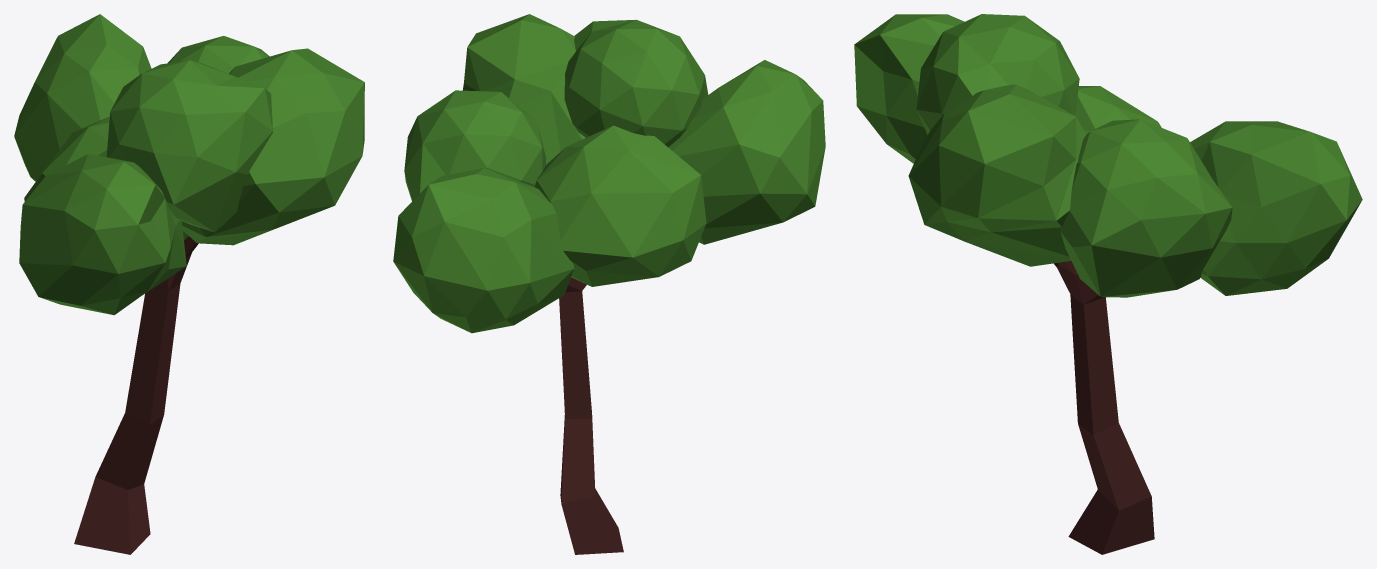
Rendered from TreeV3.fbx.
3 views of the same model, side by side, from view 1: azimuth 30°, elevation 25°; view 2: azimuth 150°, elevation 25°; view 3: azimuth 270°, elevation 25° (orthographic). The views are drawn at different scales.
Visible parts, largest first — view 1: Icosphere.002, Icosphere.005, Icosphere.001, Cube, Icosphere, Icosphere.004, Icosphere.003; view 2: Icosphere, Icosphere.003, Icosphere.002, Icosphere.005, Icosphere.004, Icosphere.001, Cube; view 3: Icosphere.001, Icosphere.004, Icosphere, Cube, Icosphere.005, Icosphere.002, Icosphere.003.
Boxes of the visible parts, x1,y1,x2,y2 form: Icosphere.002: (19,154,186,315); Icosphere.005: (106,60,272,232); Icosphere.001: (181,48,364,245); Cube: (74,252,192,554); Icosphere: (14,14,151,181); Icosphere.004: (168,36,269,73); Icosphere.003: (24,117,188,240); Icosphere: (393,168,574,333); Icosphere.003: (534,125,706,286); Icosphere.002: (668,60,825,244); Icosphere.005: (564,19,708,147); Icosphere.004: (404,90,546,201); Icosphere.001: (462,14,585,164); Cube: (559,277,623,554); Icosphere.001: (908,84,1086,266); Icosphere.004: (1060,119,1232,297); Icosphere: (1190,121,1362,295); Cube: (1057,264,1154,554); Icosphere.005: (916,14,1079,134); Icosphere.002: (854,14,964,163); Icosphere.003: (1075,86,1161,134).
Bounding box in the file's own units: 510 × 695 × 610.
